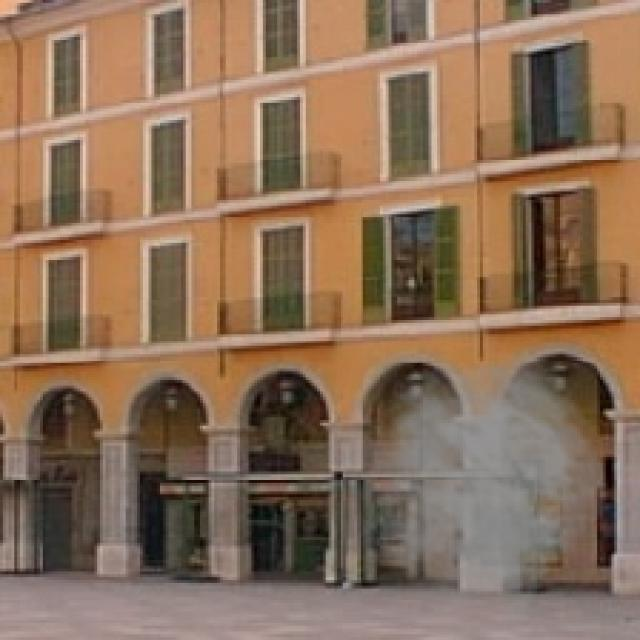smoke: (343, 348, 608, 626)
